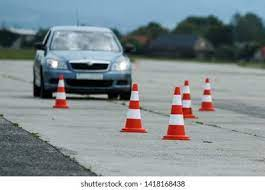car: (33, 26, 134, 99)
cone: (163, 87, 188, 140), (120, 85, 146, 133), (52, 75, 70, 111), (182, 80, 197, 118), (200, 79, 216, 111)
